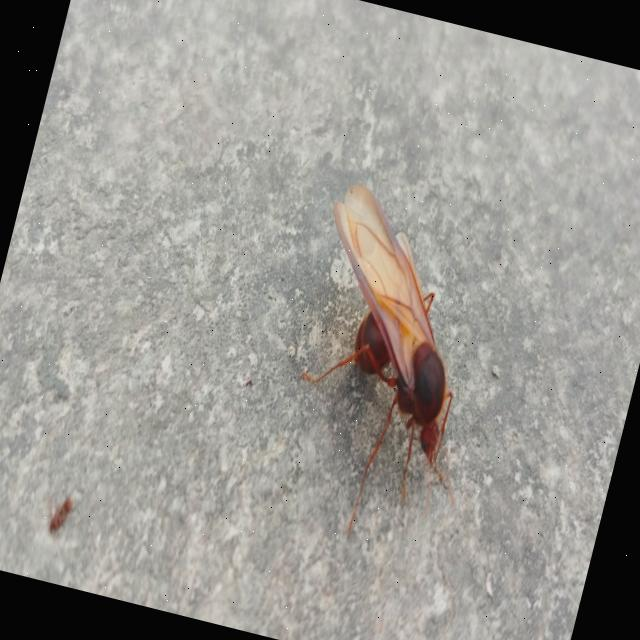Alive-Male-Alate: (258, 178, 524, 554)
